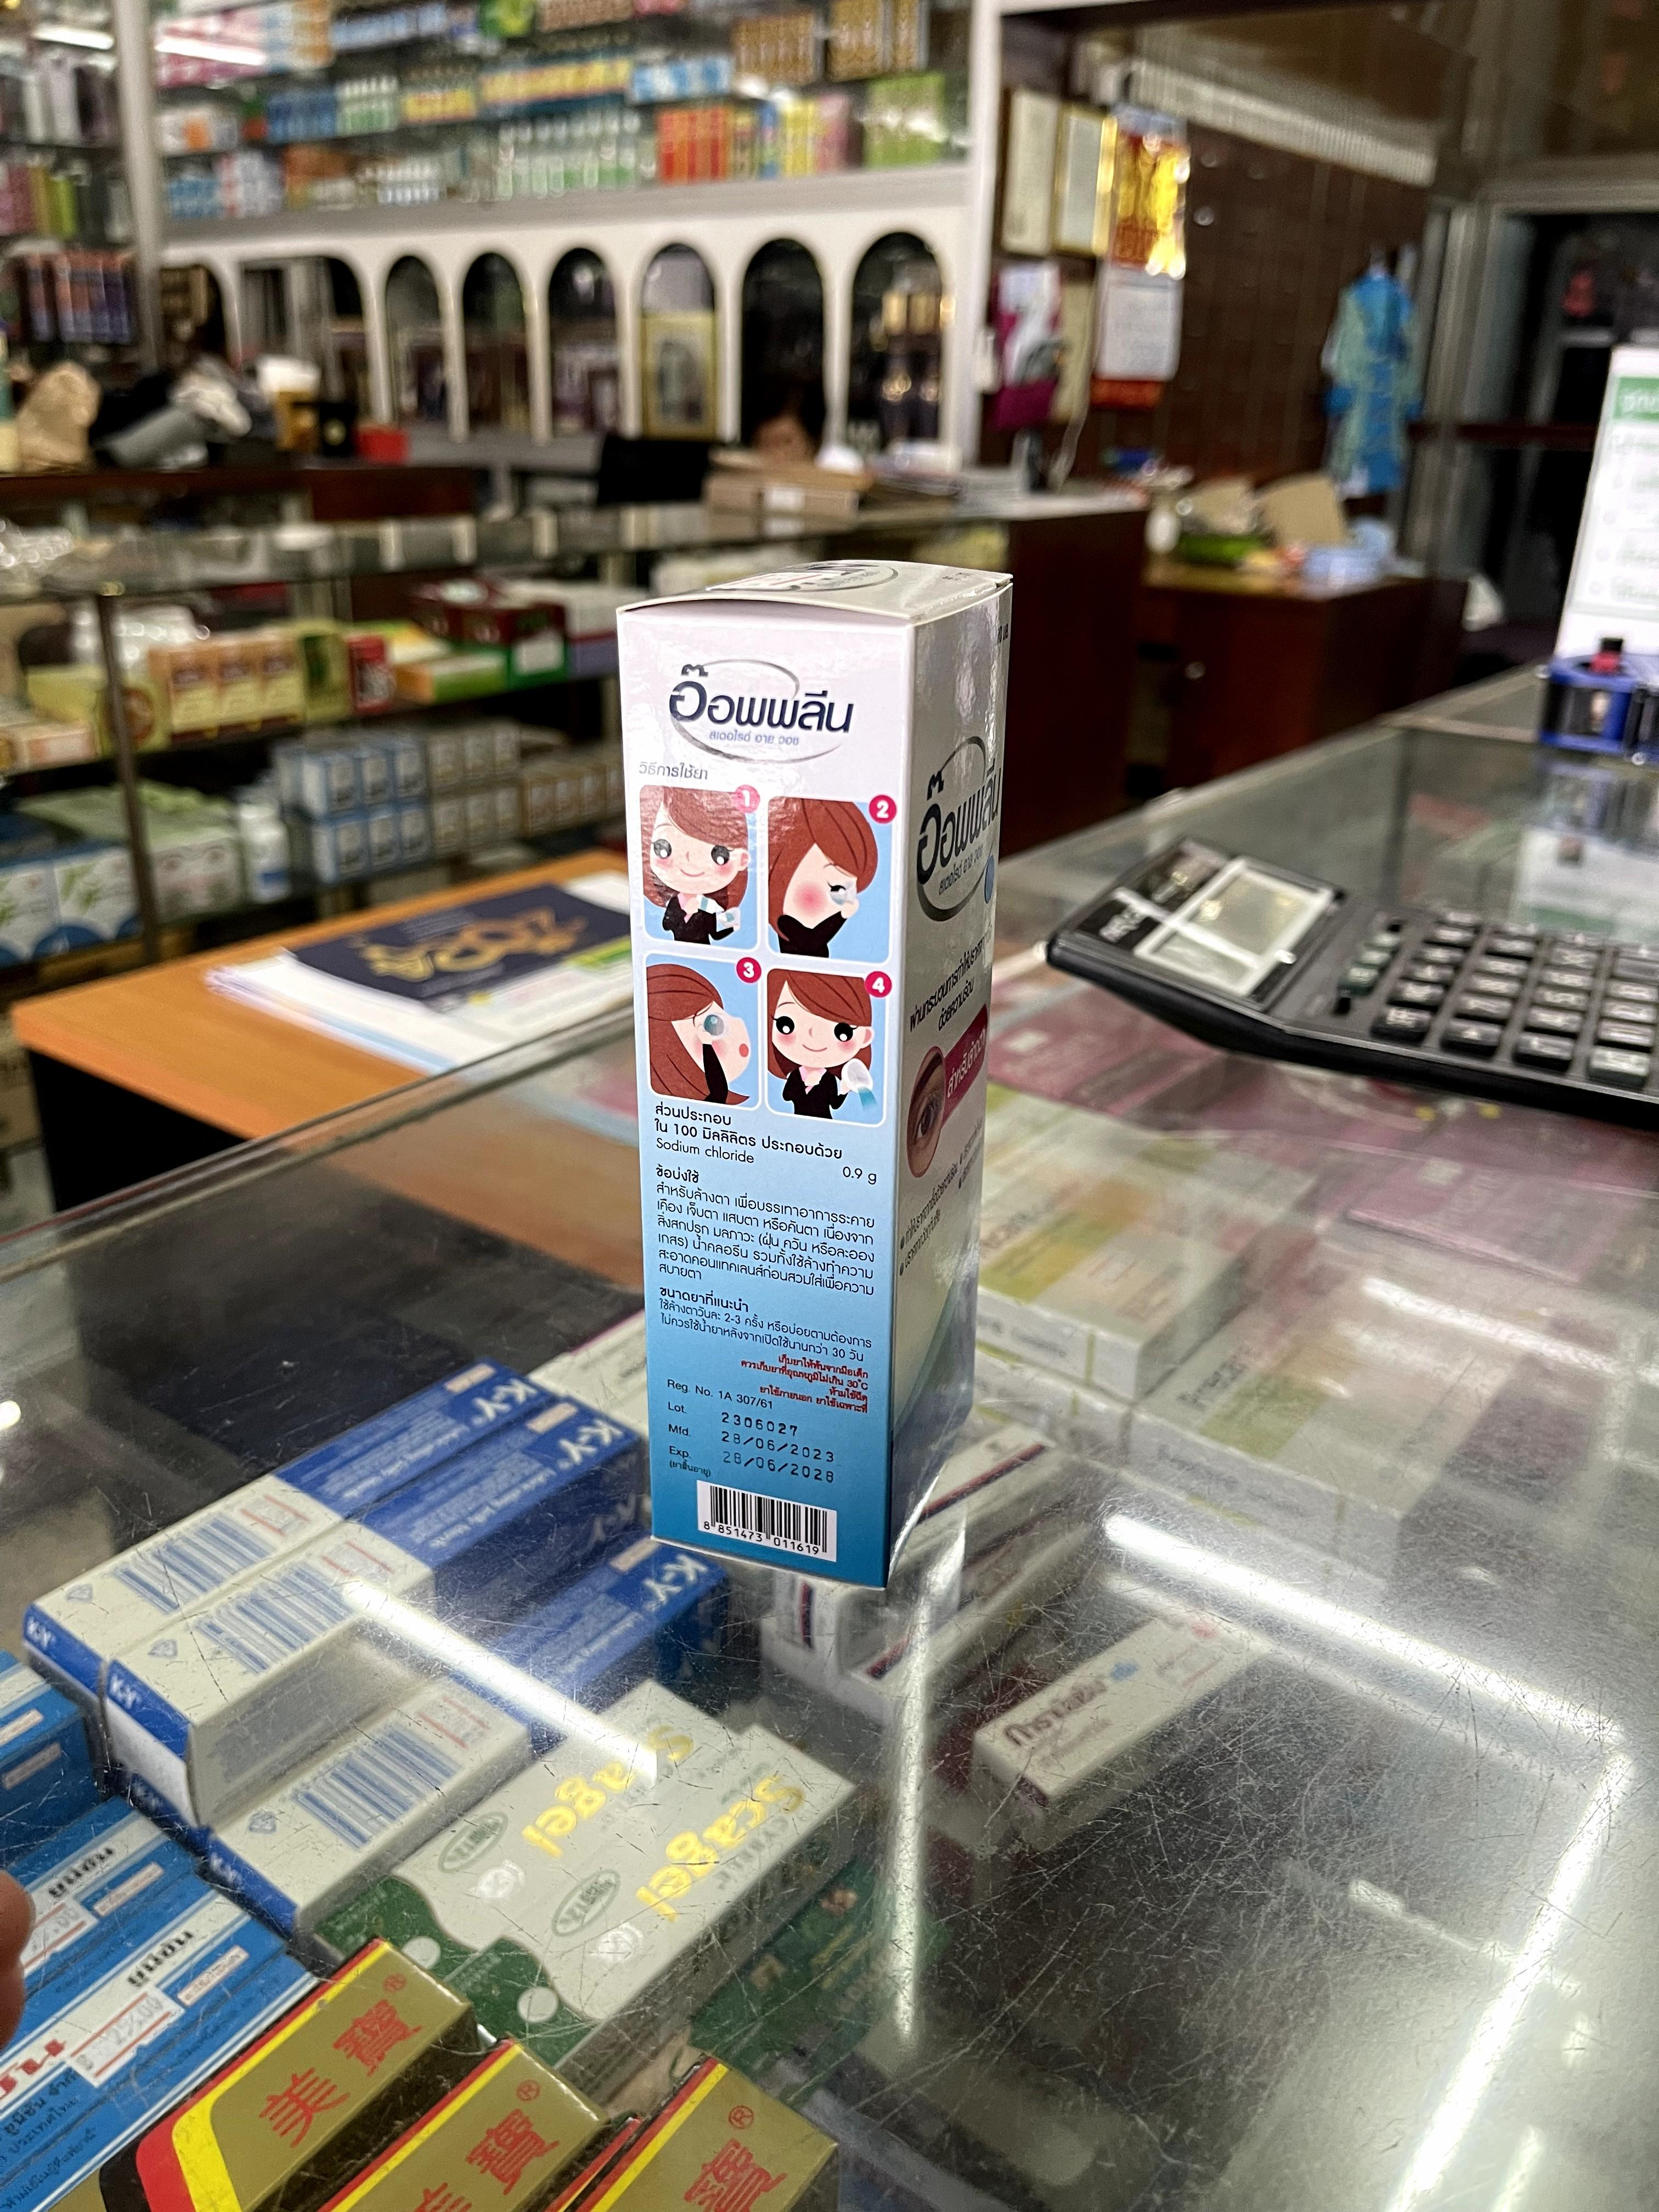Opplin: (620, 563, 1009, 1594)
